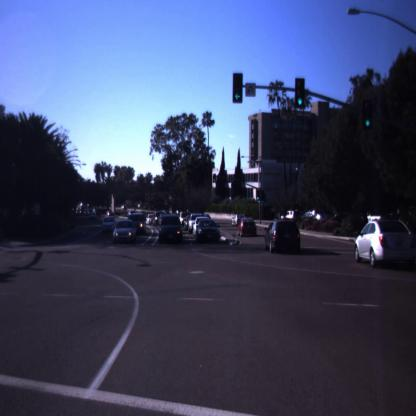trafficlight: (359, 100, 375, 141), (296, 75, 308, 114), (233, 68, 244, 108)
